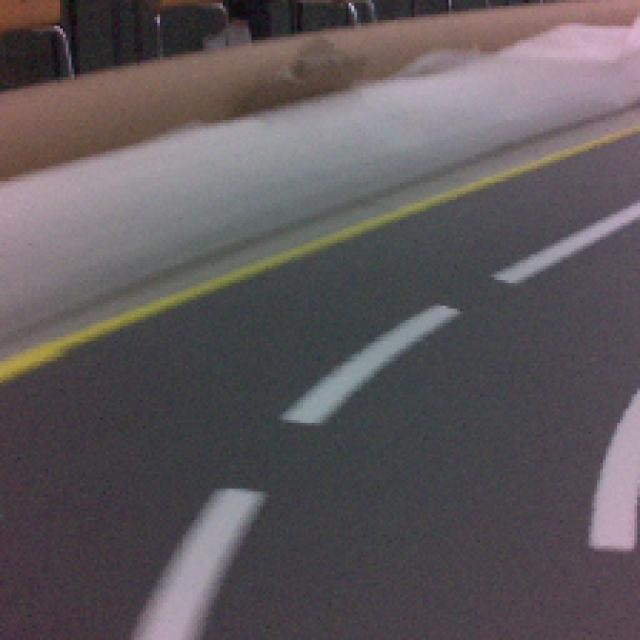Guard rail: (136, 482, 270, 640)
